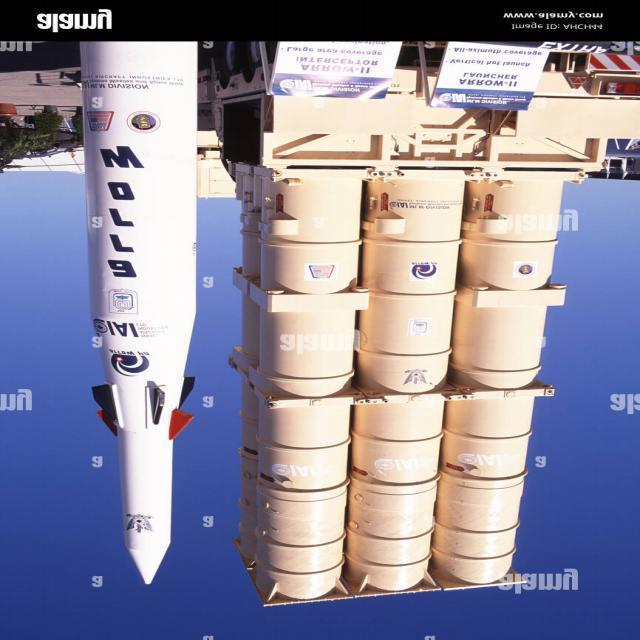Missile: (55, 48, 217, 594)
